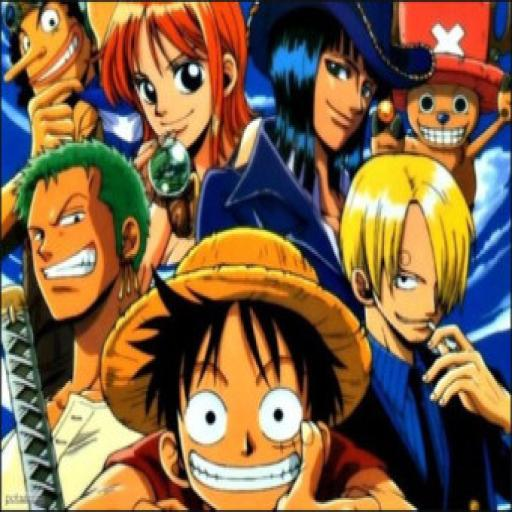Luffy: (98, 236, 393, 505)
Nami: (96, 0, 250, 139)
NicoRobin: (242, 0, 394, 156)
Usopp: (0, 0, 114, 109)
Zoro: (12, 135, 170, 331)
sanji: (334, 167, 493, 360)
